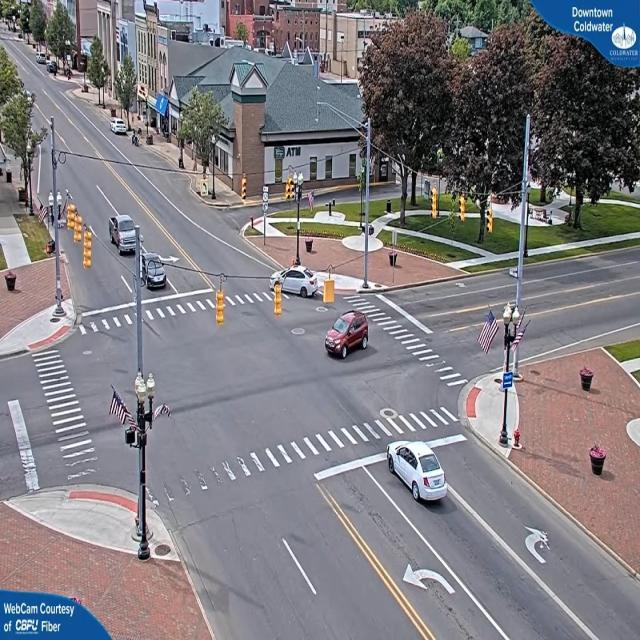car: (390, 442, 449, 503), (324, 314, 370, 359), (278, 266, 322, 299), (110, 214, 142, 254), (142, 253, 168, 289), (112, 120, 129, 136)
